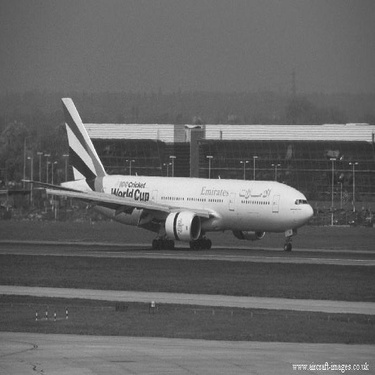airplane: (7, 74, 324, 275)
